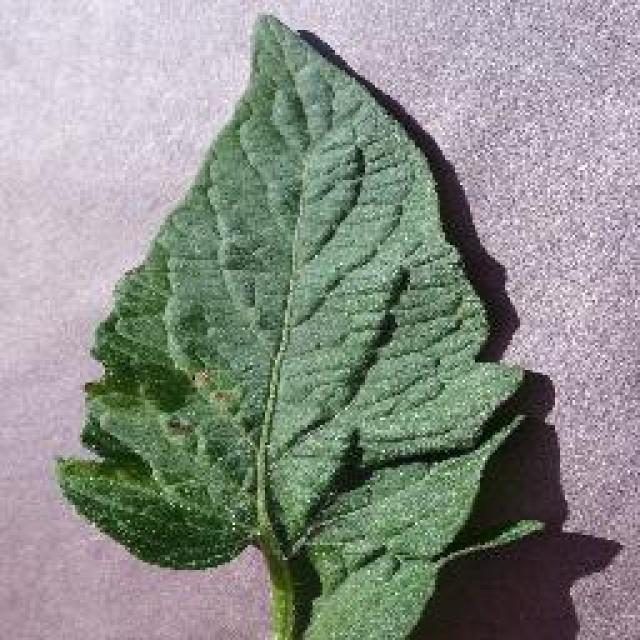Tom_Target_Spot: (138, 354, 258, 465)
